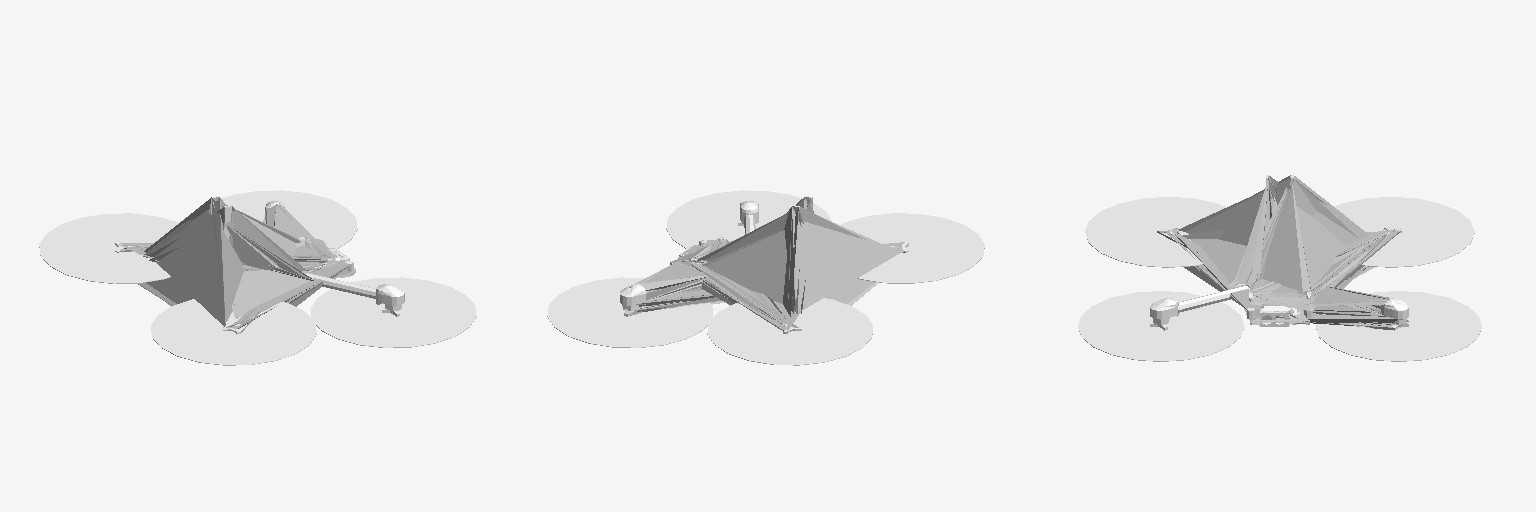
The model's file is combined.obj.
The picture shows the model from 3 angles: view 1: azimuth 30°, elevation 25°; view 2: azimuth 150°, elevation 25°; view 3: azimuth 270°, elevation 25°; orthographic projection.
Visible parts, largest first — view 1: Foot_LP_Plane_001_Sahur_0; view 2: Foot_LP_Plane_001_Sahur_0; view 3: Foot_LP_Plane_001_Sahur_0.
Part boxes in pixels (x1,y1,x2,y2): Foot_LP_Plane_001_Sahur_0: (118,197,355,332); Foot_LP_Plane_001_Sahur_0: (625,197,908,331); Foot_LP_Plane_001_Sahur_0: (1157,175,1408,329).
Size of the model in its own units: 54.98 by 21.93 by 64.1.